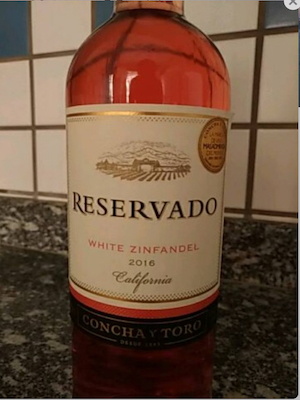reservado white zinfandel: (52, 7, 243, 375)
